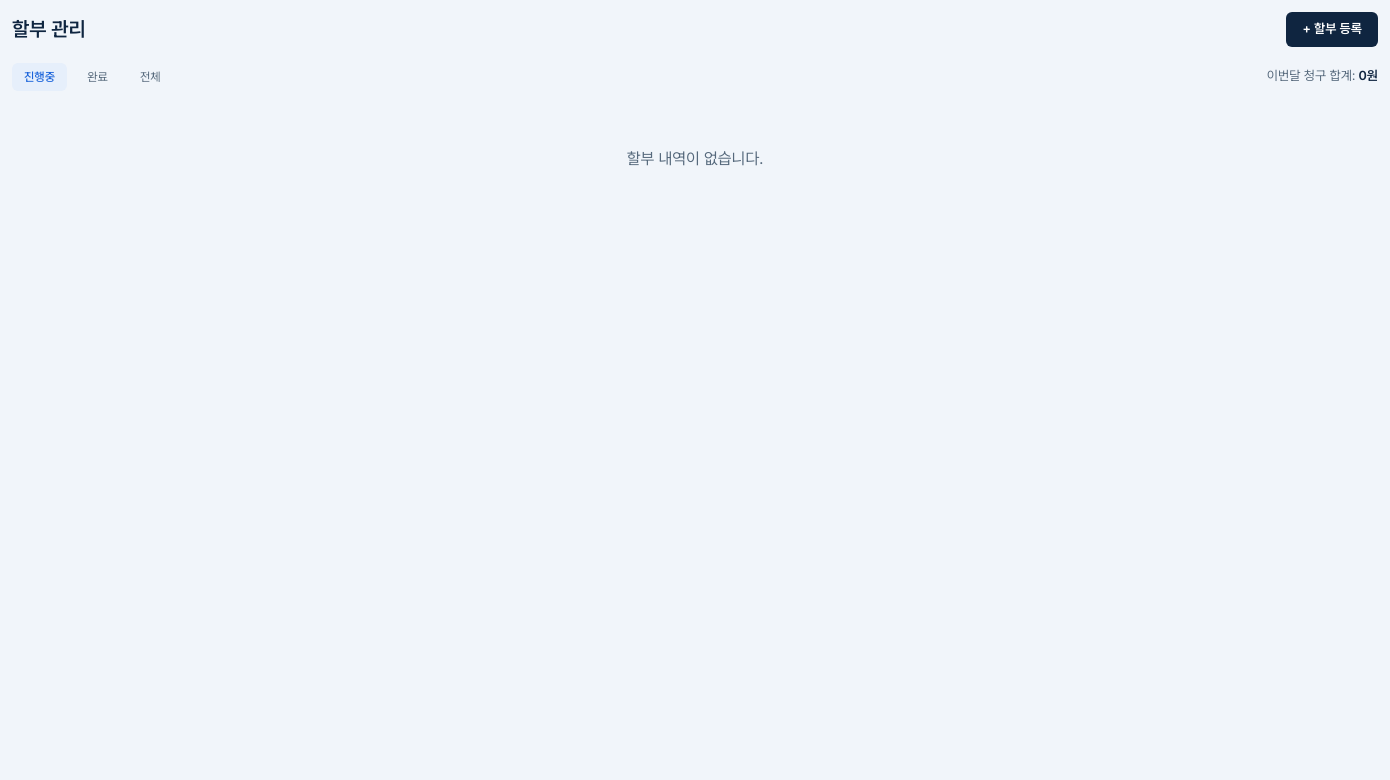
Test: 청구월 계산 근거 문구 › 카드 이름을 넣어 적는다
The width and height of the screenshot is (1390, 780).
Click the button "+ 할부 등록".
click(1332, 29)  # box [1286,12,1378,47]
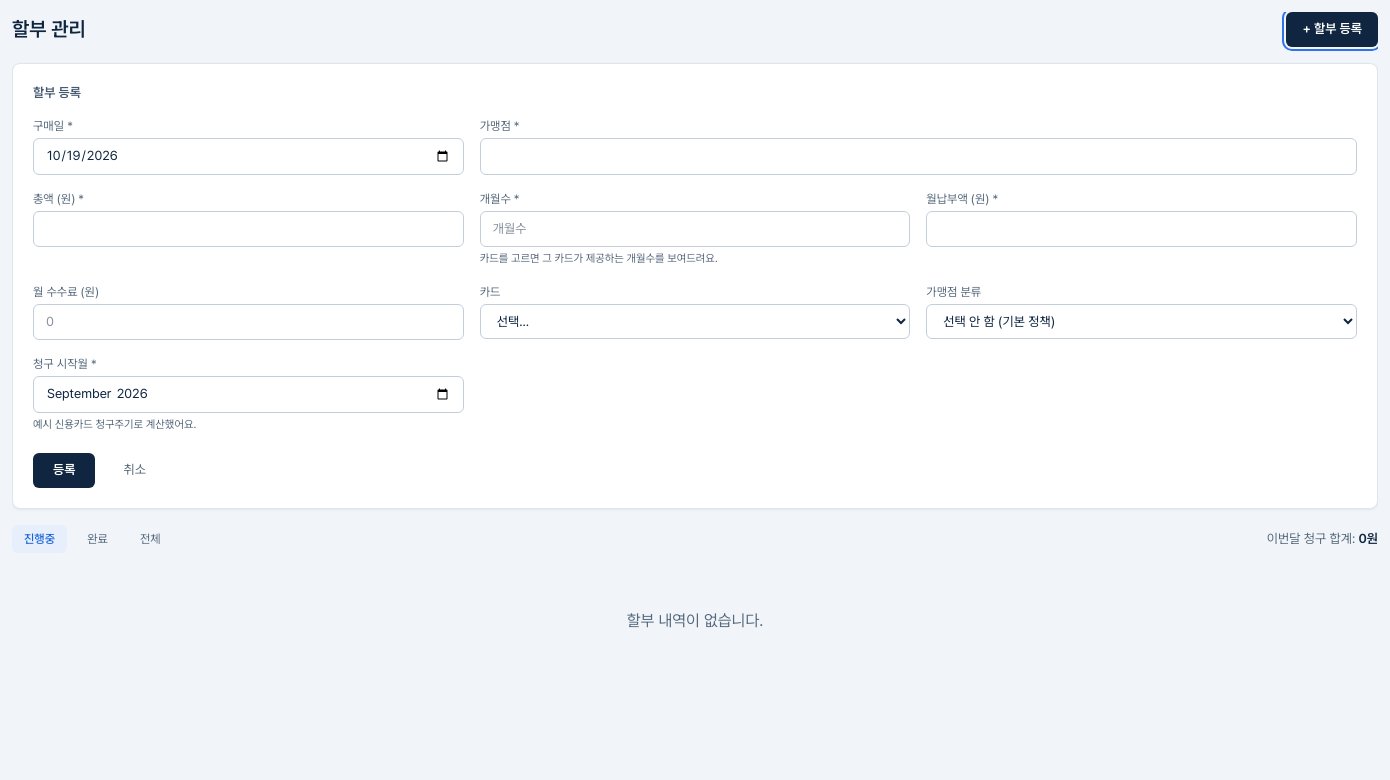
Expected: the text "예시 신용카드 청구주기로 계산했어요." is shown, [33,418,196,431]
